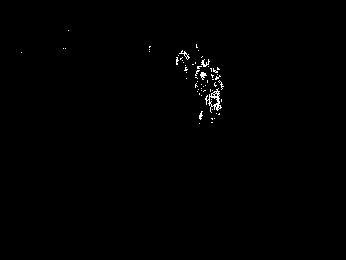person: (195, 55, 211, 121), (206, 64, 223, 117)
